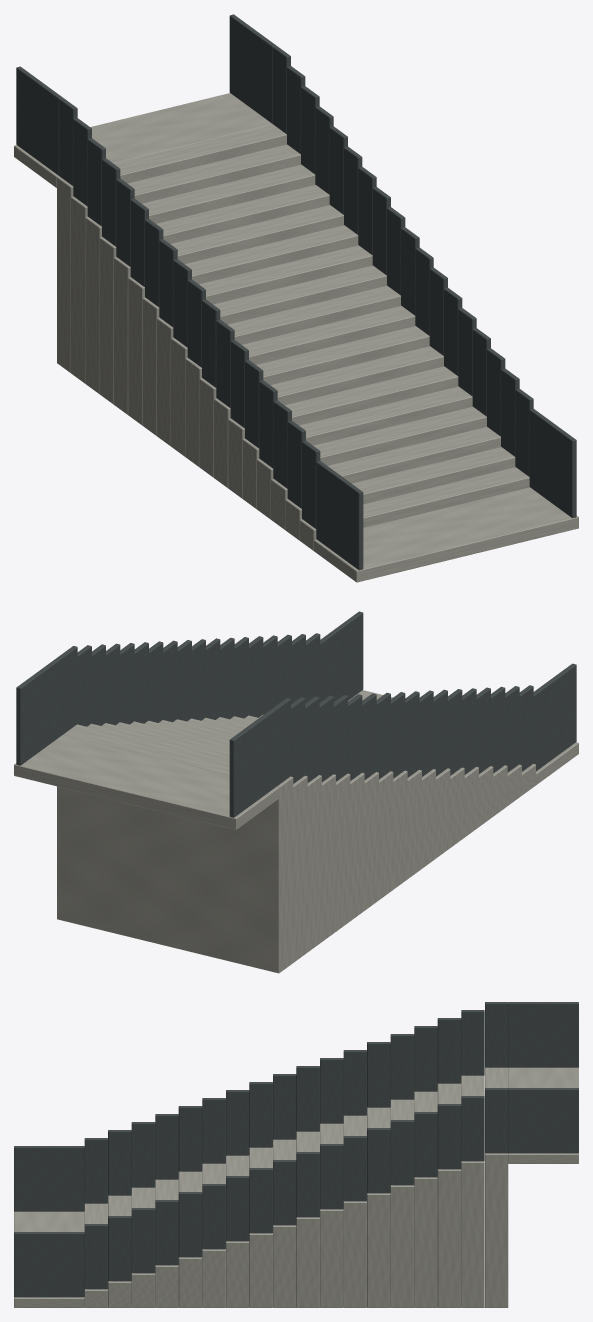
File: I07_StairFlight_visual.glb
3 views of the same model, one above another, from view 1: azimuth 30°, elevation 25°; view 2: azimuth 150°, elevation 25°; view 3: azimuth 270°, elevation 25° (orthographic). The views are drawn at different scales.
Visible parts, largest first — view 1: I07_StairFlight__VIS_shell; view 2: I07_StairFlight__VIS_shell; view 3: I07_StairFlight__VIS_shell.
Part boxes in pixels (box(x1,y1,x2,y2)): I07_StairFlight__VIS_shell: box(14, 14, 578, 582); I07_StairFlight__VIS_shell: box(14, 611, 578, 973); I07_StairFlight__VIS_shell: box(14, 1002, 578, 1307).
Size of the model in its own units: 12 by 13.6 by 32.
1 material, 1 textured.
